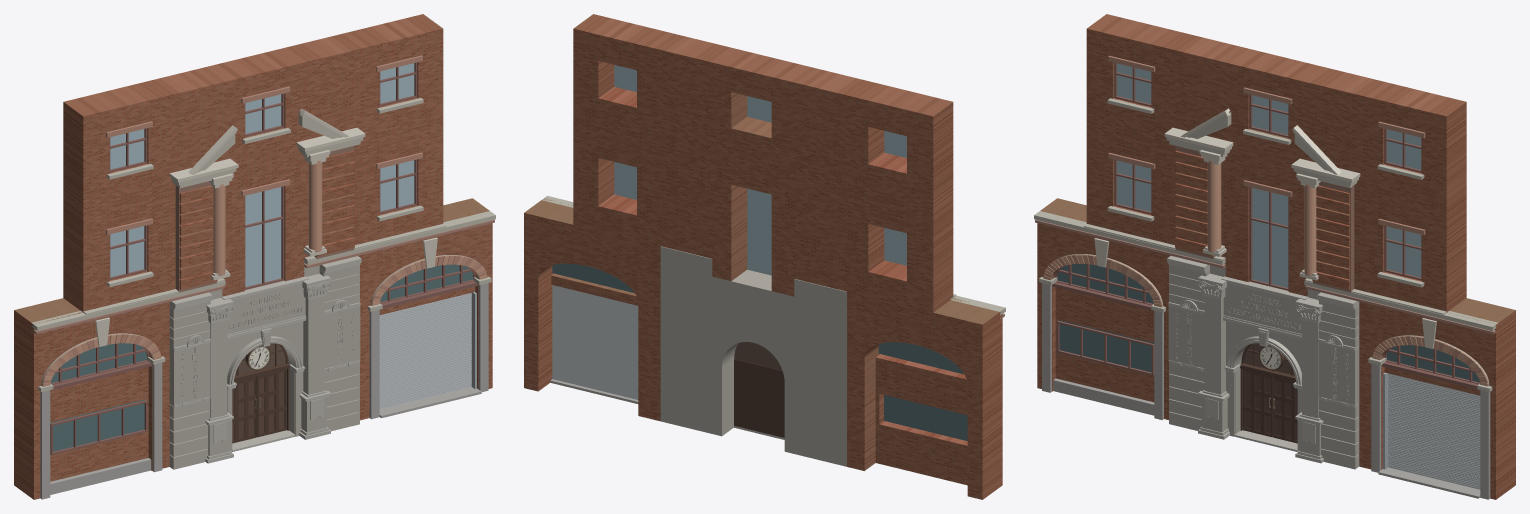
The model's file is huangpu-puguang-ymca-east-entrance-raw.glb.
The picture shows the model from 3 angles, left to right: view 1: azimuth 30°, elevation 25°; view 2: azimuth 150°, elevation 25°; view 3: azimuth 330°, elevation 25°; orthographic projection.
Parts seen in each view (by area): view 1: 浦光大楼（上海基督教青年会）四川中路门头与东立面窗墙; view 2: 浦光大楼（上海基督教青年会）四川中路门头与东立面窗墙; view 3: 浦光大楼（上海基督教青年会）四川中路门头与东立面窗墙.
Part boxes in pixels (x1,y1,x2,y2): 浦光大楼（上海基督教青年会）四川中路门头与东立面窗墙: (14,14,495,499); 浦光大楼（上海基督教青年会）四川中路门头与东立面窗墙: (524,14,1005,499); 浦光大楼（上海基督教青年会）四川中路门头与东立面窗墙: (1034,14,1515,499).
Bounding box in the file's own units: 19.43 × 15.04 × 2.11.
Materials: 24 (1 with a texture image).
